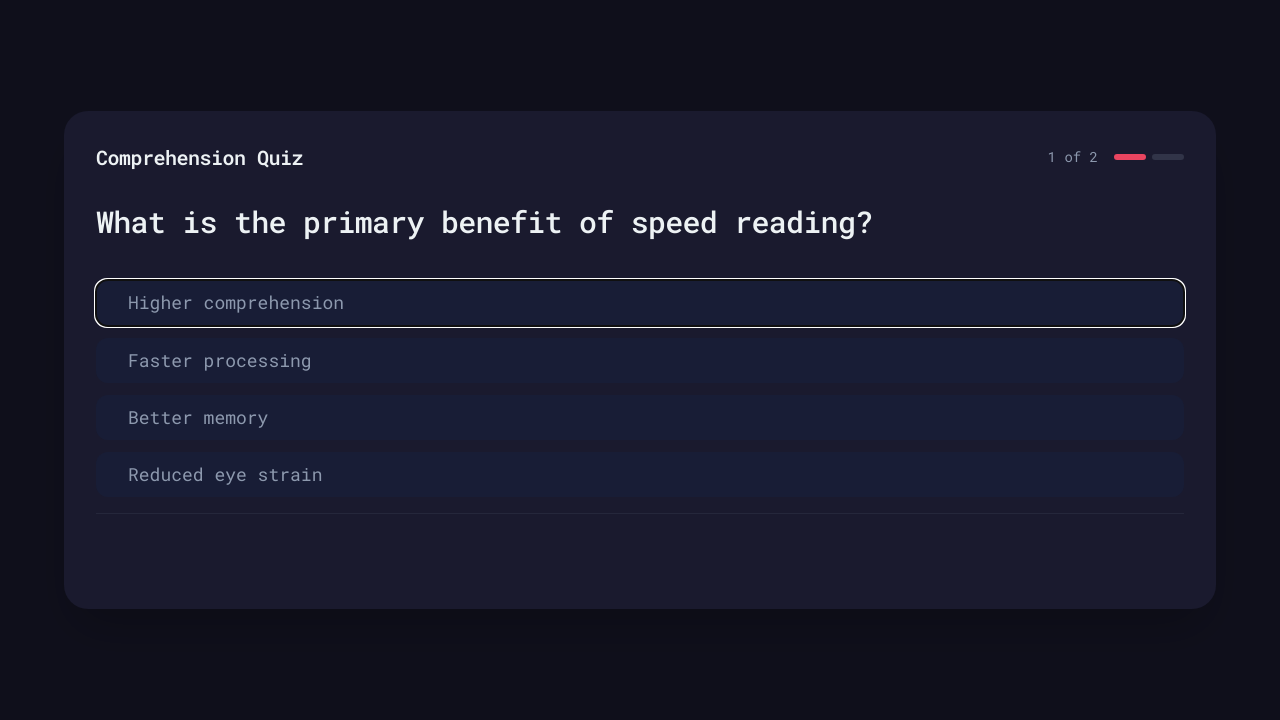
QuizModal › User Interaction Flow › shows the button when an option is selected
This screenshot has width=1280, height=720.
Click the button "Faster processing": (220, 360) [96, 338, 1184, 383]
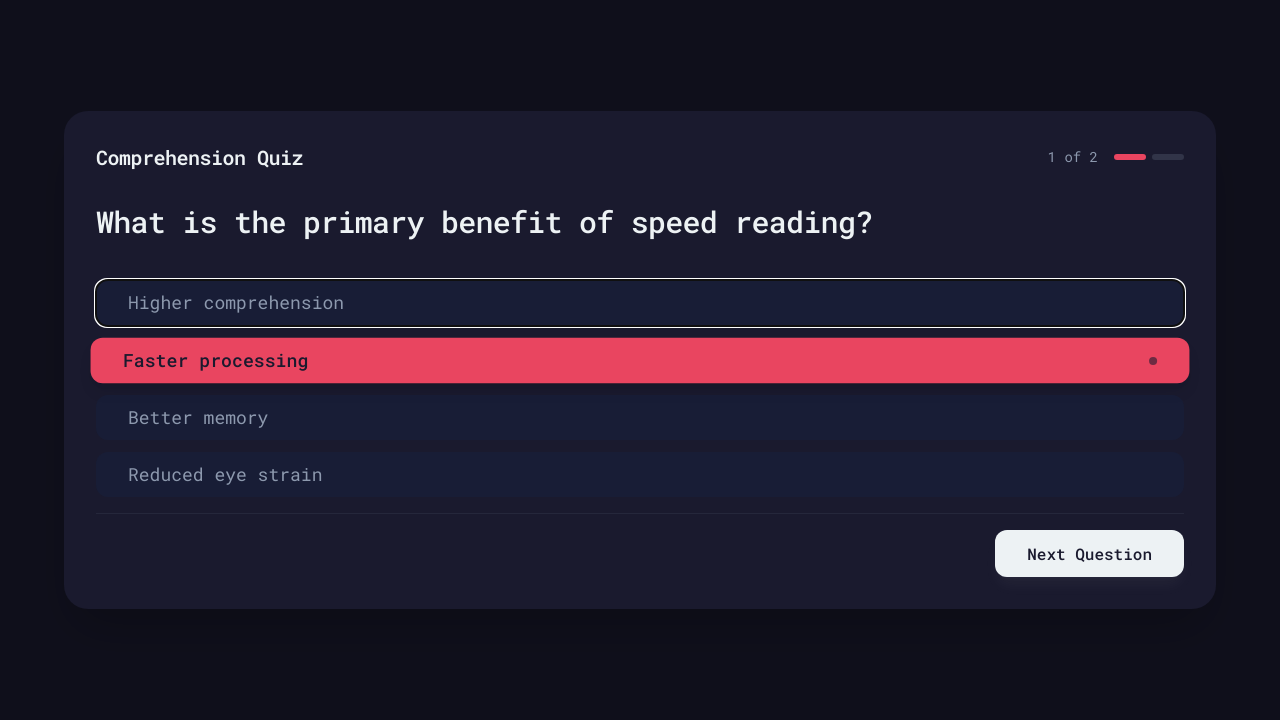
expect the button "Next Question" is shown: met, box [995, 530, 1184, 577]
